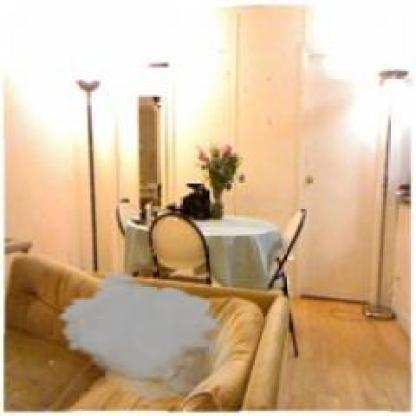Smoke: (55, 270, 234, 409)
